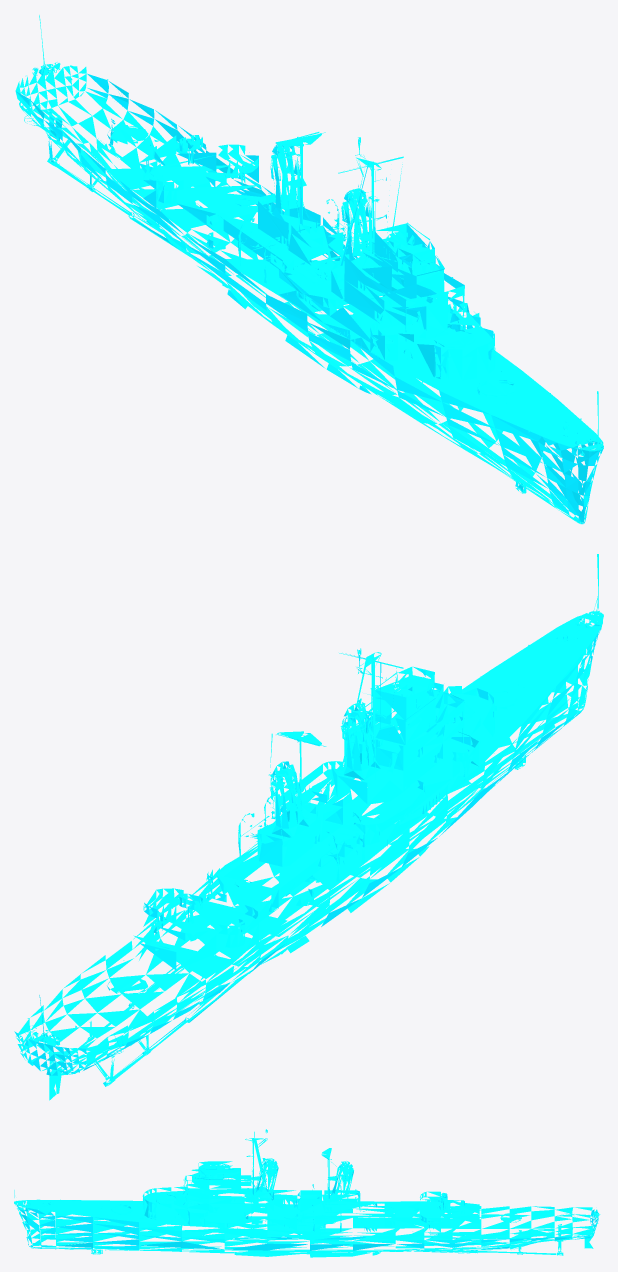
The model's file is Burrows.glb.
3 renders of one model, top to bottom at view 1: azimuth 30°, elevation 25°; view 2: azimuth 150°, elevation 25°; view 3: azimuth 270°, elevation 25°, orthographic. The views are drawn at different scales.
Size of the model in its own units: 1.01 by 2.09 by 8.97.
